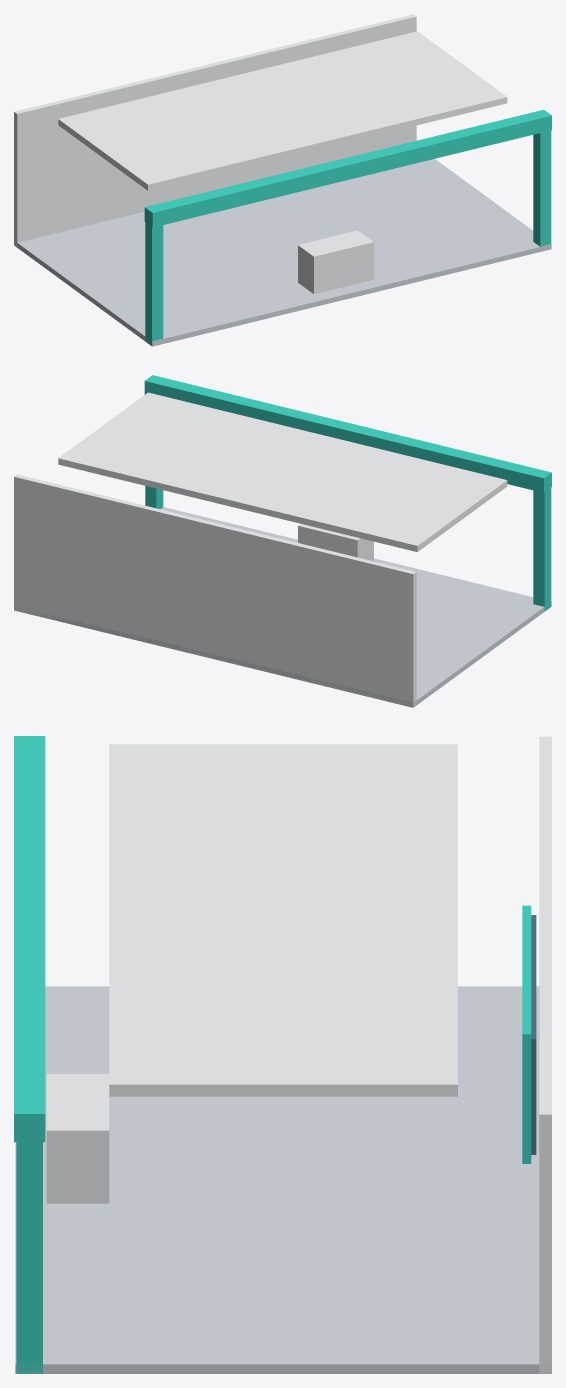
3 renders of one model, top to bottom at view 1: azimuth 30°, elevation 25°; view 2: azimuth 150°, elevation 25°; view 3: azimuth 270°, elevation 25°, orthographic. The views are drawn at different scales.
Parts seen in each view (by area): view 1: Exhibition Booth Concept; view 2: Exhibition Booth Concept; view 3: Exhibition Booth Concept.
Boxes of the visible parts, <box> form: Exhibition Booth Concept: <box>14,14,551,346</box>; Exhibition Booth Concept: <box>14,375,551,707</box>; Exhibition Booth Concept: <box>14,736,551,1373</box>.
Bounding box in the file's own units: 10 × 3.34 × 6.02.
